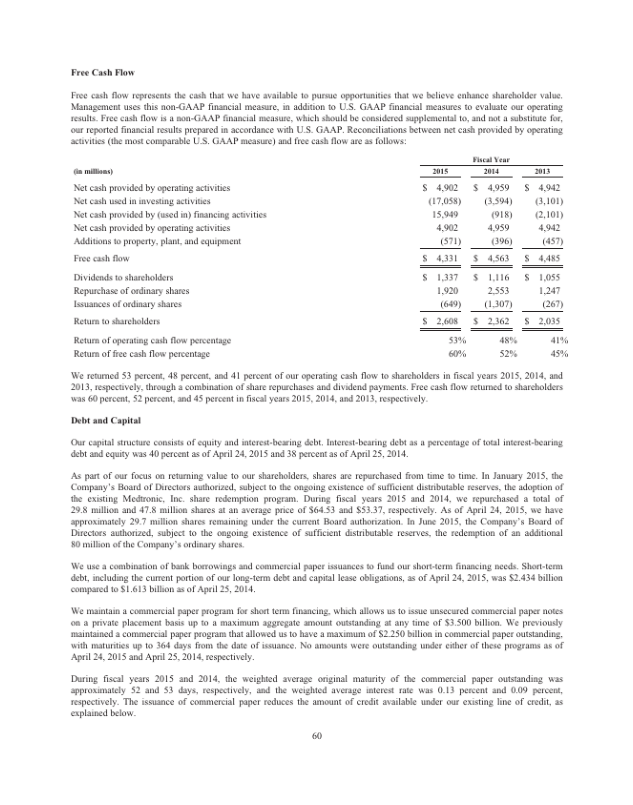table: (411, 152, 574, 362)
